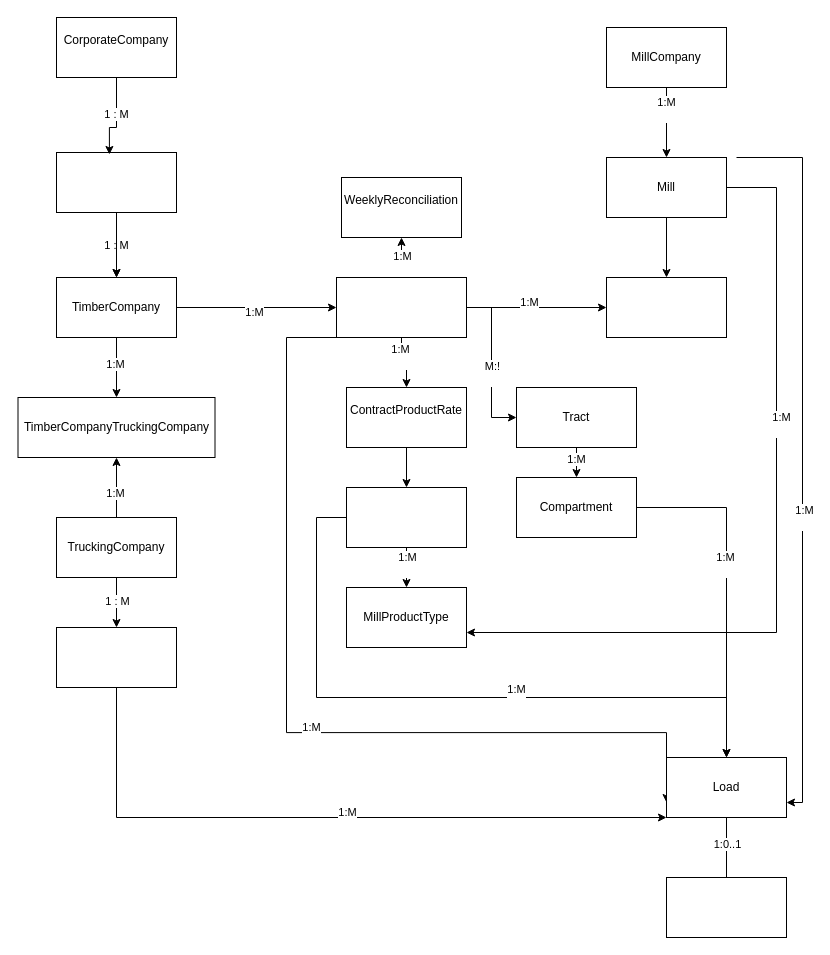
The diagram is 830 pixels wide and 955 high, and some of its shapes have lost their labels. Here are the shapes that lost their labels. From the top down, the centre of each, then its label:
At point (116, 182): "Region".
At point (401, 307): "Contract".
At point (666, 307): "ContractMillRoute".
At point (406, 517): "ProductType".
At point (116, 657): "Driver".
At point (726, 907): "MillTicket".
